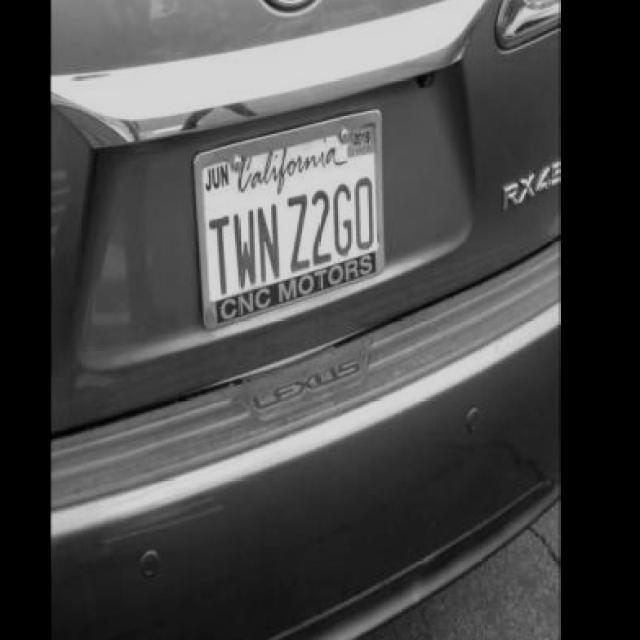licenseplate: (190, 111, 386, 299)
